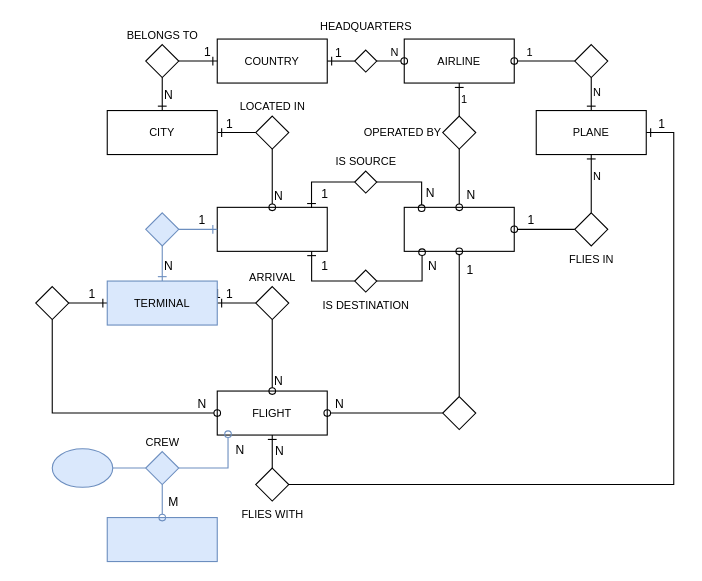
The diagram is 702 pixels wide and 581 high, and some of its shapes have lost their labels. The centre of each missing label's shape, as x and y in pixels:
AIRPORT: the point at 271,228
DEPARTURE: the point at 52,302
HAS LINES: the point at 591,60
OPERATES IN: the point at 459,412
PART OF: the point at 162,229
PROFESIONAL: the point at 161,539
role: the point at 82,467
ROUTE: the point at 458,228
